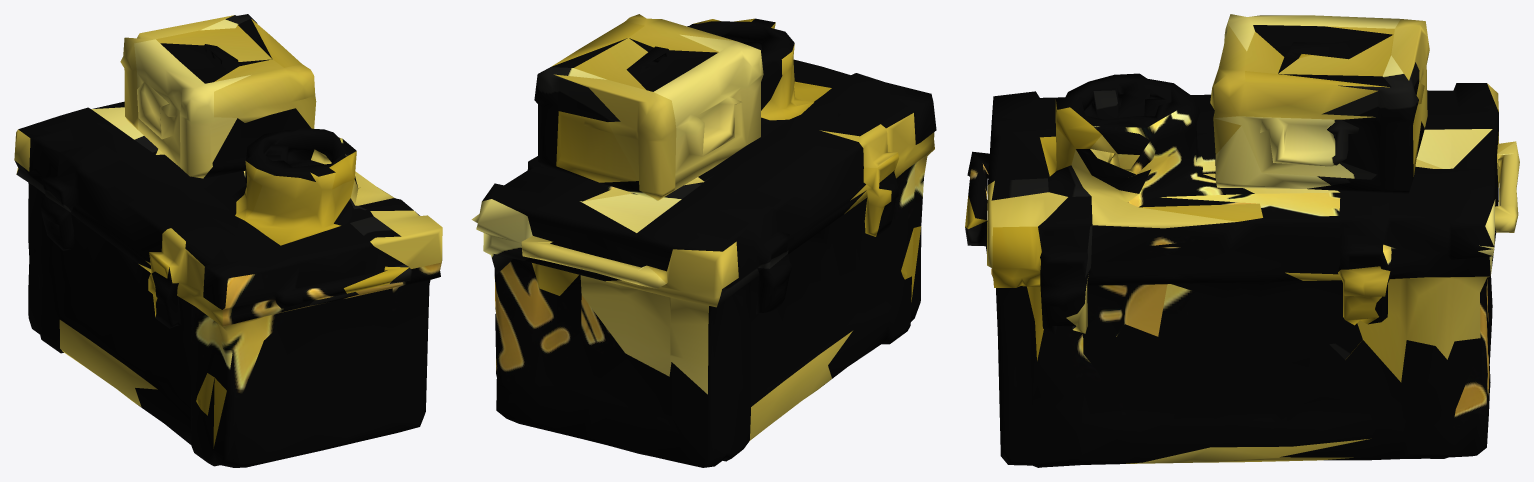
File: zipline_crate_idk.fbx
The picture shows the model from 3 angles, left to right: view 1: azimuth 30°, elevation 25°; view 2: azimuth 150°, elevation 25°; view 3: azimuth 270°, elevation 25°; orthographic projection. The views are drawn at different scales.
Parts seen in each view (by area): view 1: tripo_node_48ca6e0e-fd85-42d8-805a-ed473a20b399.002; view 2: tripo_node_48ca6e0e-fd85-42d8-805a-ed473a20b399.002; view 3: tripo_node_48ca6e0e-fd85-42d8-805a-ed473a20b399.002.
Boxes of the visible parts, x1,y1,x2,y2 form: tripo_node_48ca6e0e-fd85-42d8-805a-ed473a20b399.002: (14, 14, 442, 467); tripo_node_48ca6e0e-fd85-42d8-805a-ed473a20b399.002: (471, 14, 936, 467); tripo_node_48ca6e0e-fd85-42d8-805a-ed473a20b399.002: (965, 14, 1519, 467).
Size of the model in its own units: 21.7 by 25.03 by 33.23.
